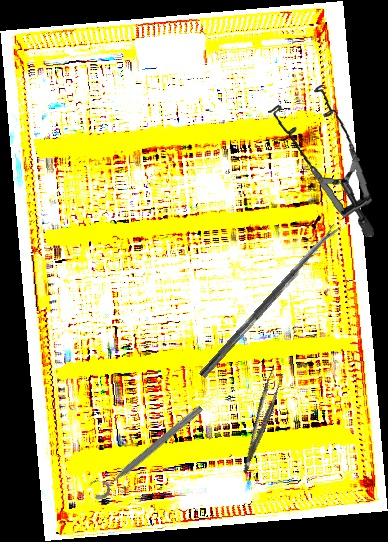Fixation Ring: (84, 396, 207, 503)
Speculum: (258, 80, 387, 238)
Surgical Spoon: (198, 223, 341, 380)
Tissue Forceps: (230, 367, 289, 475)
